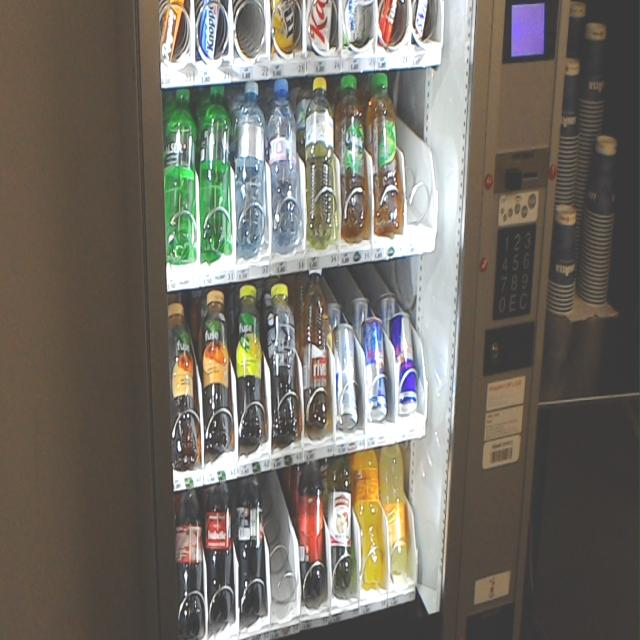coke__flasche_50__54491472: (204, 481, 232, 632), (176, 484, 203, 634)
coke_zero_flasche_50__5449000131836: (236, 469, 264, 611)
evian___50__3068320353500: (264, 78, 300, 252)
fanta___50__40822938: (352, 447, 382, 589)
fuse_lemon__50__5449000235947: (265, 282, 299, 442), (231, 281, 264, 444)
fuse_peach__50__5449000236623: (165, 300, 198, 467), (200, 288, 232, 447)
mezzomix___50__54490840: (298, 457, 326, 602)
ramseier_jusdepomme__50__7610057001078: (327, 455, 353, 590)
redbull___33__90162909: (388, 310, 419, 417), (361, 314, 388, 418), (332, 322, 358, 428)
rivella_rot__50__7610097111072: (302, 266, 328, 429)
schweppes_citrus__50__: (380, 439, 406, 574)
valser_classic__50__76404160: (164, 86, 198, 262), (198, 84, 231, 259)
valser_still__50__7610335002575: (233, 81, 266, 255)
valser_vivabirne__50__7610335001530: (303, 73, 337, 249)
volvic_teeminze__50__3057640335648: (365, 70, 399, 232), (334, 73, 366, 236)
